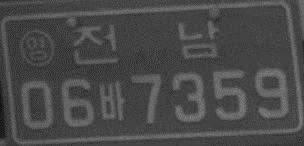0: (20, 80, 54, 130)
3: (171, 71, 206, 123)
5: (212, 69, 247, 121)
6: (60, 77, 95, 128)
7: (130, 73, 163, 124)
9: (253, 67, 289, 118)
바: (99, 79, 126, 122)
영: (20, 29, 55, 68)
전남_D: (70, 20, 219, 67)
